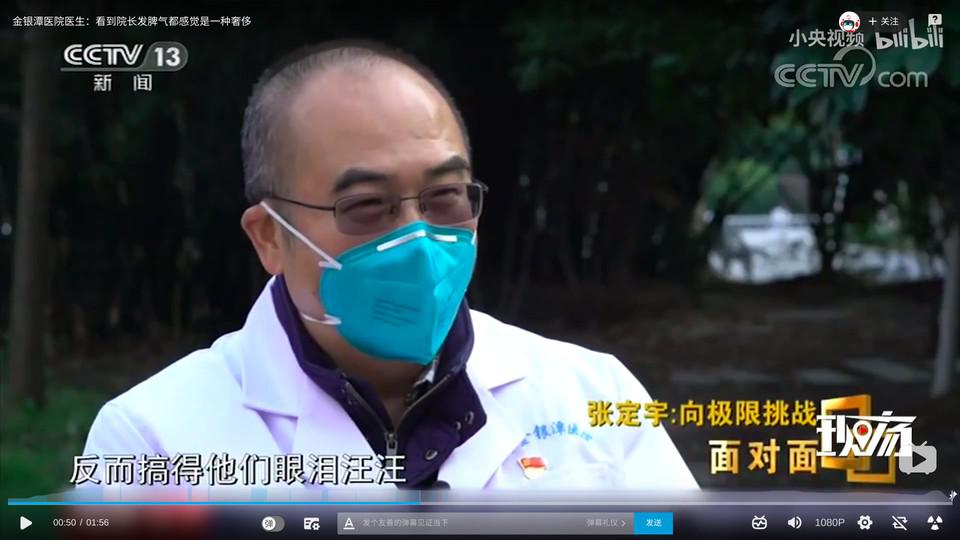OK: (297, 134, 476, 364)
